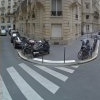crosswalk: (0, 62, 78, 100)
